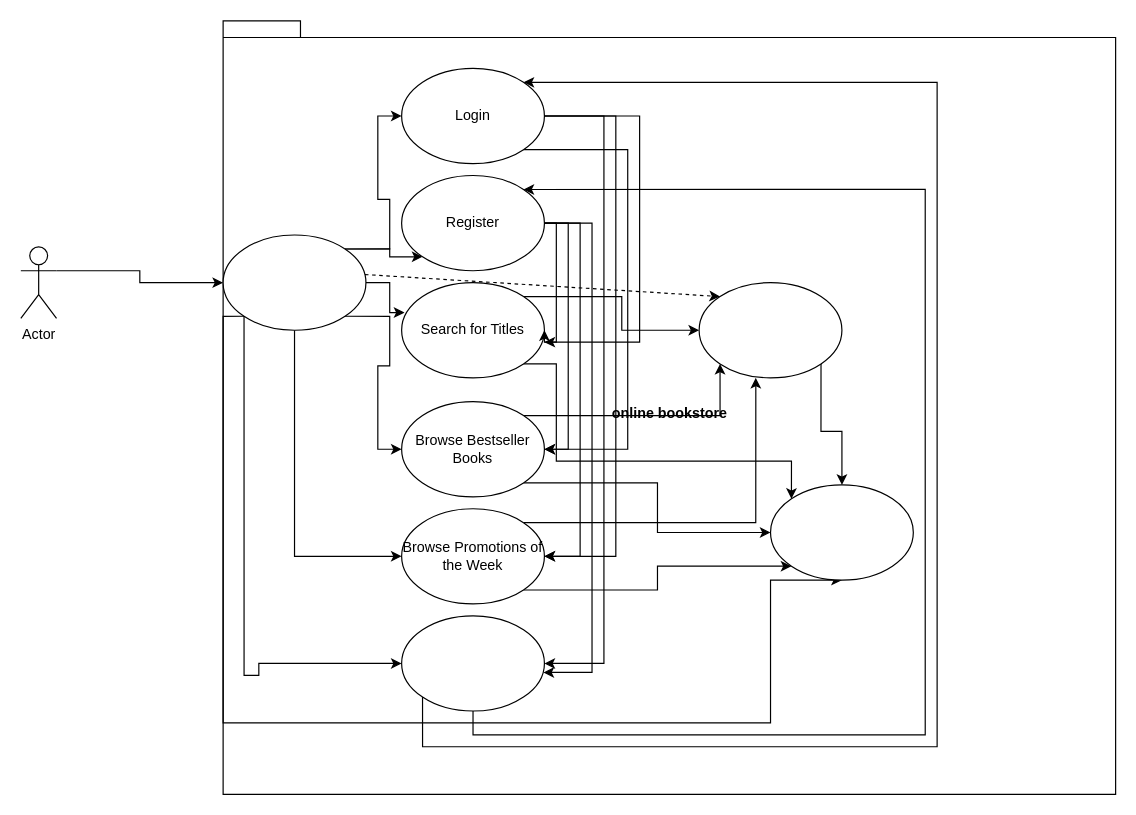
Image size: 1136x815. Some labels were removed from this diagram. Each missing label, with the centre of its shape:
Access/Browse Website: the point at 294,282
Add Item to Cart: the point at 841,532
Checkout Shopping Cart: the point at 472,663
View Book/Book Info: the point at 770,329
